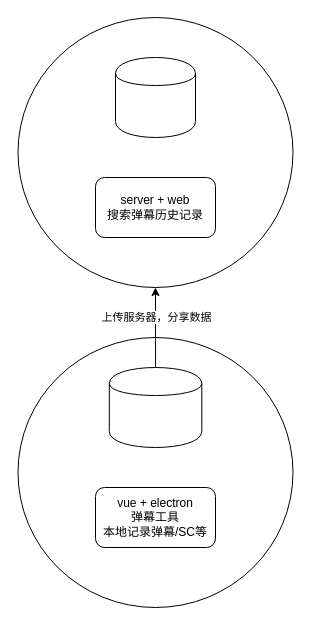
Some shapes in this 310 by 625 pixel diagram are drawn without their labels. The shapes that lost their labels are listed below. From the top down, each one's centre as x and y in pixels, then its label:
the point at 155,97: mongodb
the point at 155,407: localStorage nedb
